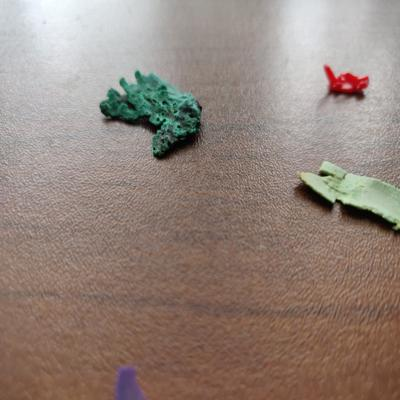plastic: (97, 61, 209, 160), (291, 157, 400, 234), (319, 61, 377, 104)
